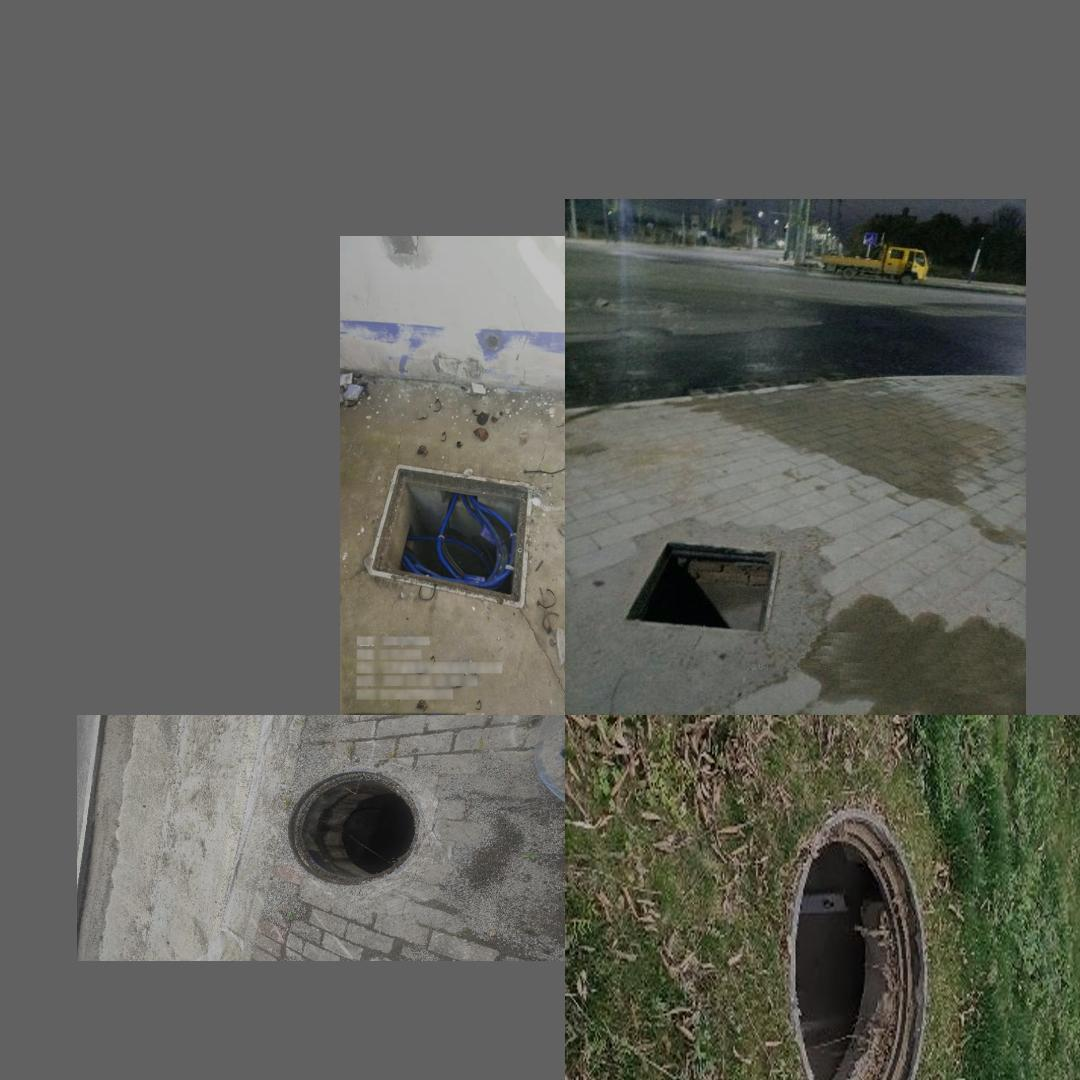lose: (789, 810, 928, 1080), (367, 463, 532, 609), (617, 537, 782, 637), (291, 771, 419, 885)
